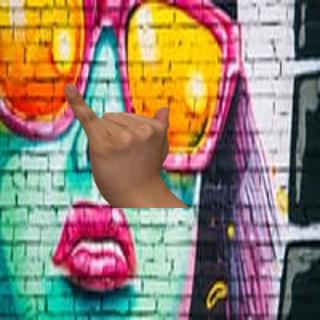HAVE: (57, 75, 182, 207)
